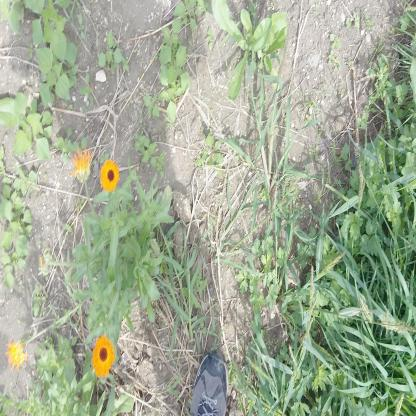marigold: (93, 336, 113, 378), (102, 162, 118, 190)
